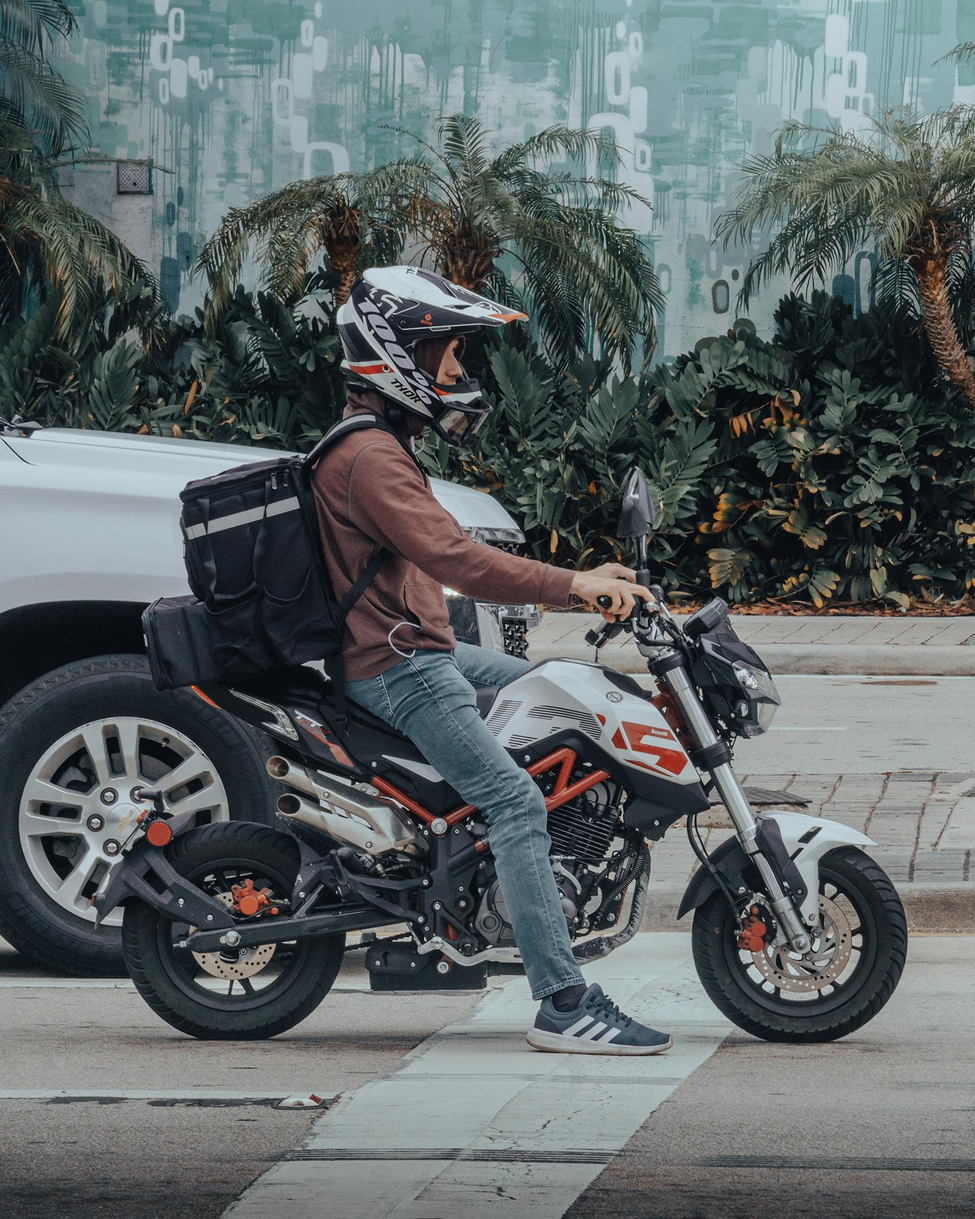helmet: (334, 263, 531, 449)
